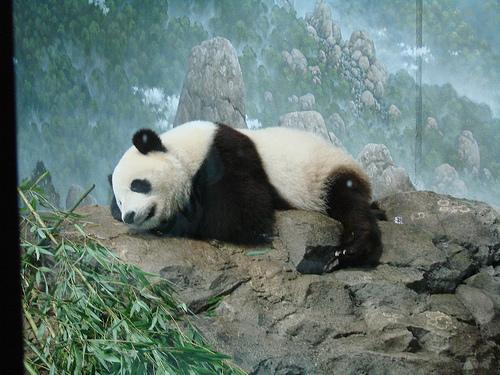panda: (112, 120, 380, 262)
